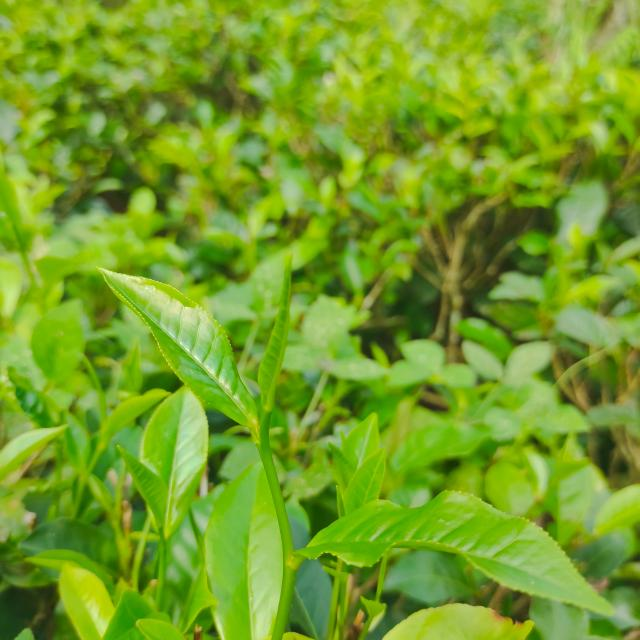unopened_leaf: (249, 251, 298, 421), (70, 346, 119, 428), (371, 545, 400, 600), (332, 475, 357, 520)
